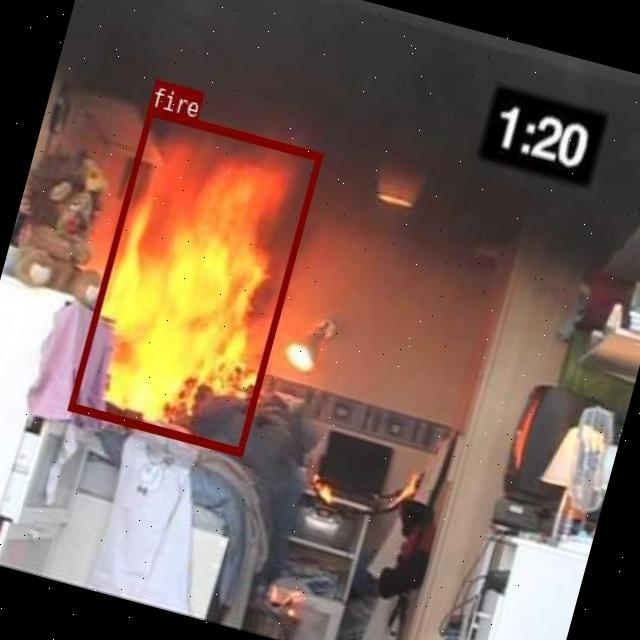fire: (66, 106, 322, 454)
